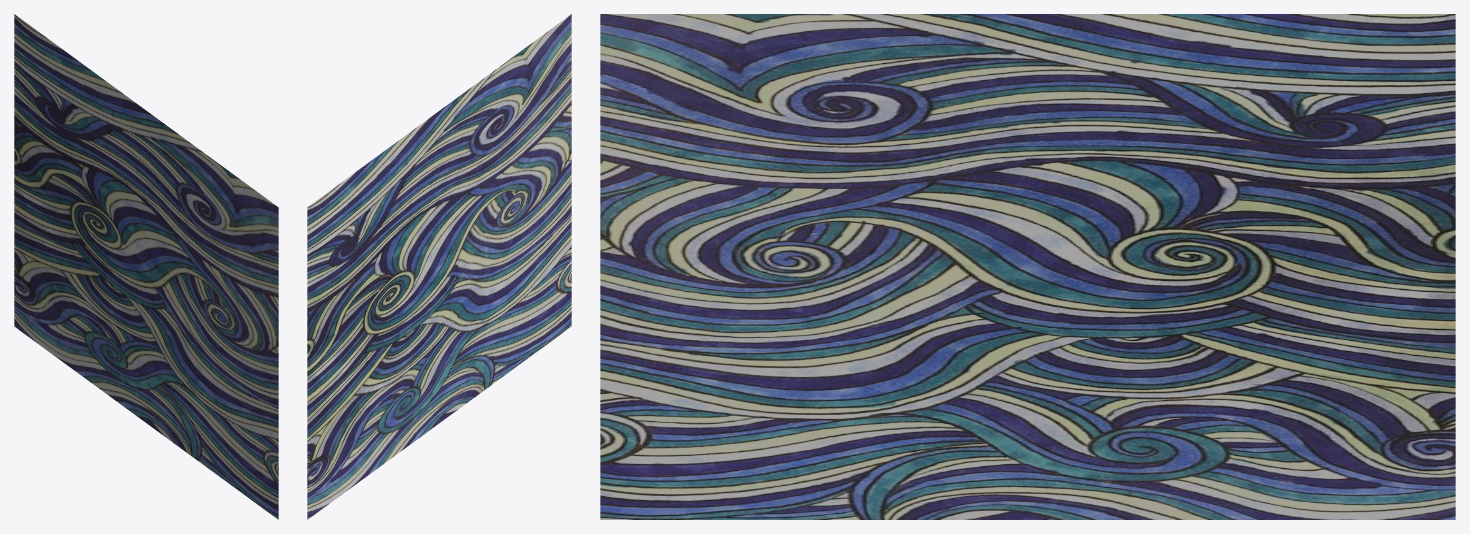
File: Picture.FBX
The picture shows the model from 3 angles, left to right: view 1: azimuth 30°, elevation 25°; view 2: azimuth 150°, elevation 25°; view 3: azimuth 270°, elevation 25°; orthographic projection. The views are drawn at different scales.
Parts seen in each view (by area): view 1: Object015; view 2: Object015; view 3: Object015.
Part boxes in pixels (x1,y1,x2,y2): Object015: (14,14,278,519); Object015: (307,14,571,519); Object015: (600,14,1455,519).
Bounding box in the file's own units: 0 × 7.19 × 11.02.
